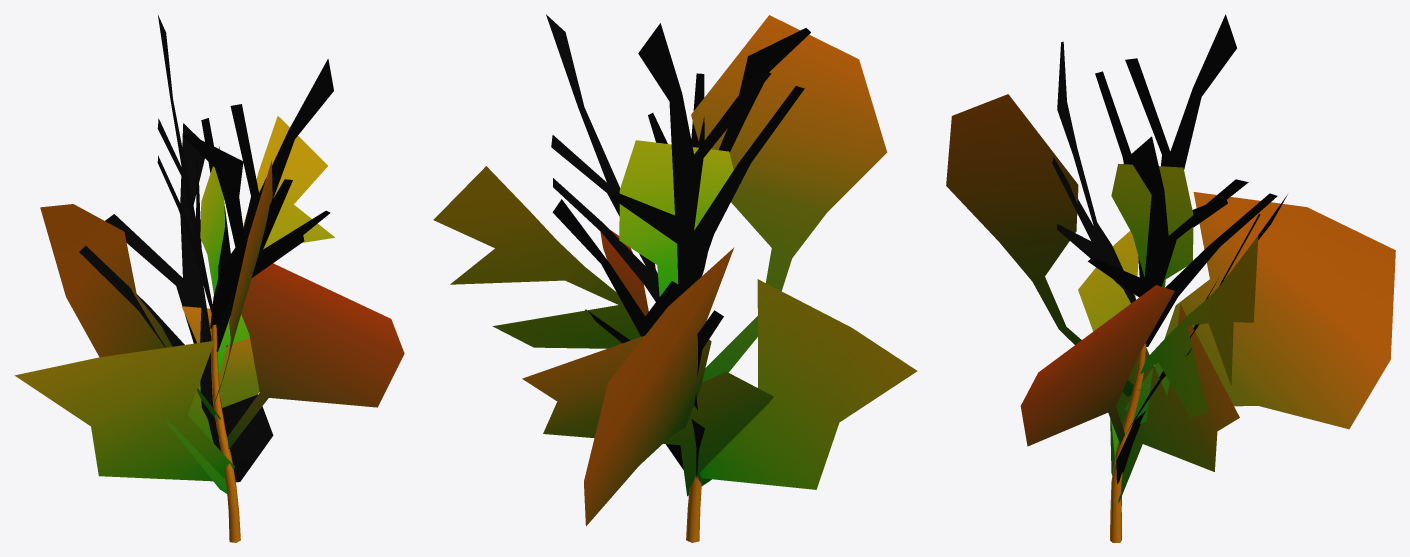
The model's file is Acacia_LOD0_Var5_semkO.fbx.
3 renders of one model, left to right at view 1: azimuth 30°, elevation 25°; view 2: azimuth 150°, elevation 25°; view 3: azimuth 270°, elevation 25°, orthographic. The views are drawn at different scales.
Parts seen in each view (by area): view 1: _0e0b_Var5_LOD0; view 2: _0e0b_Var5_LOD0; view 3: _0e0b_Var5_LOD0.
Boxes of the visible parts, x1,y1,x2,y2 form: _0e0b_Var5_LOD0: (14,15,404,542); _0e0b_Var5_LOD0: (433,14,917,542); _0e0b_Var5_LOD0: (946,14,1395,542).
Size of the model in its own units: 39.56 by 50.81 by 40.24.
